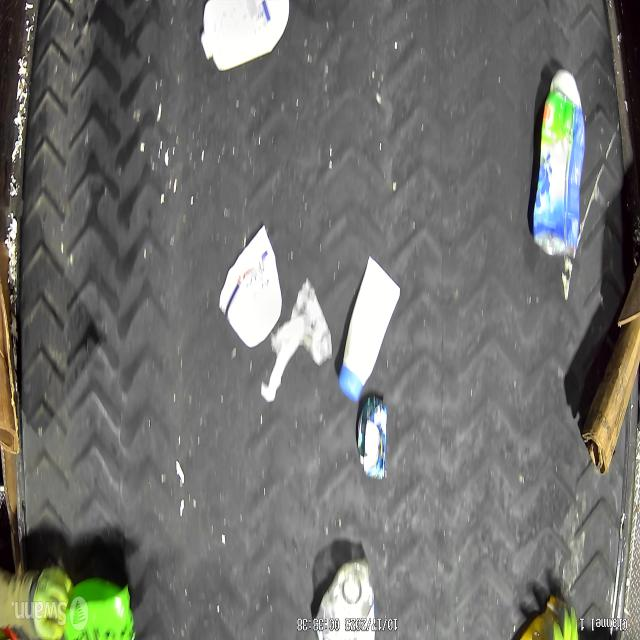can: (355, 397, 387, 481)
non_white_jug: (60, 577, 134, 640)
